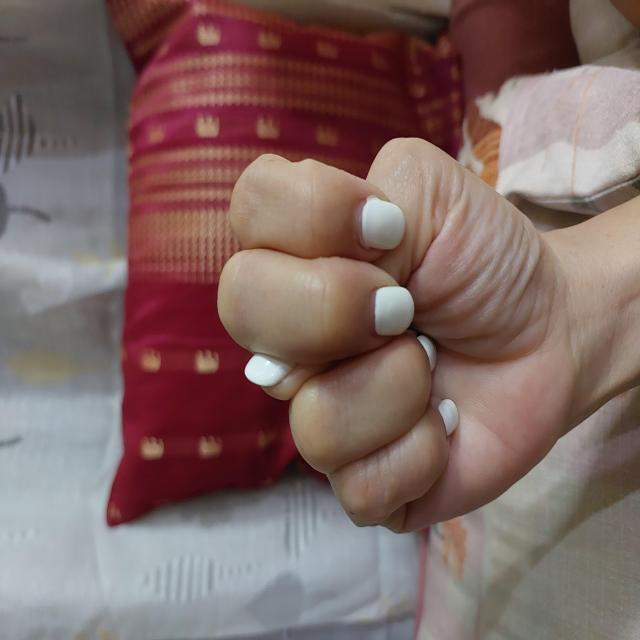N: (103, 213, 504, 571)
